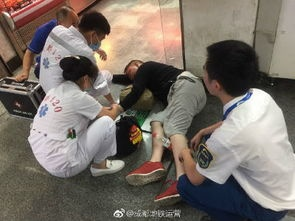falling: (106, 48, 213, 196)
